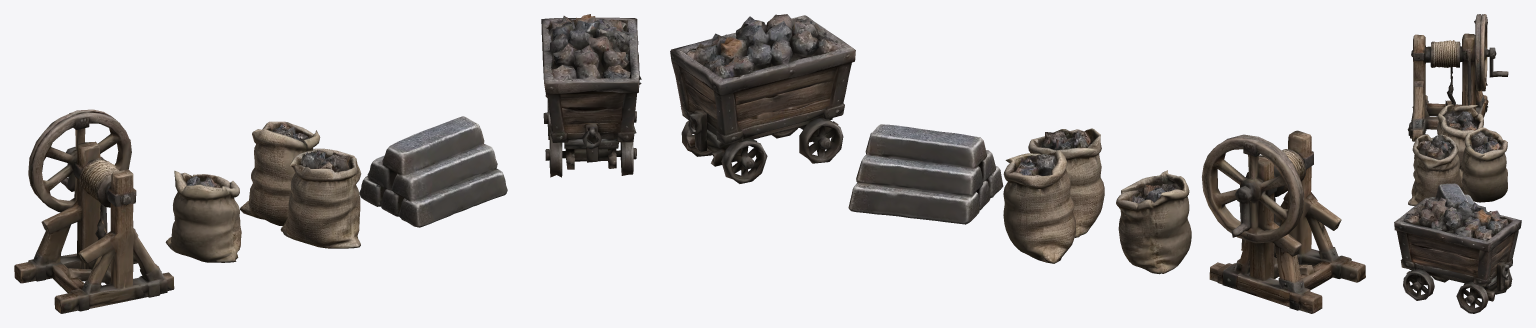
File: props_mining.glb
3 views of the same model, side by side, from view 1: azimuth 30°, elevation 25°; view 2: azimuth 150°, elevation 25°; view 3: azimuth 270°, elevation 25° (orthographic). The views are drawn at different scales.
Parts seen in each view (by area): view 1: winch, cart, sacks_pair, ingots, sack; view 2: cart, winch, ingots, sacks_pair, sack; view 3: cart, sacks_pair, winch, sack, ingots.
Part boxes in pixels (x1=…): winch: x1=14, y1=109, x2=174, y2=313; cart: x1=541, y1=14, x2=641, y2=177; sacks_pair: x1=240, y1=121, x2=361, y2=248; ingots: x1=359, y1=116, x2=507, y2=227; sack: x1=165, y1=170, x2=241, y2=262; cart: x1=670, y1=14, x2=855, y2=183; winch: x1=1202, y1=130, x2=1365, y2=313; ingots: x1=848, y1=124, x2=1003, y2=224; sacks_pair: x1=1003, y1=128, x2=1104, y2=263; sack: x1=1116, y1=170, x2=1191, y2=274; cart: x1=1394, y1=196, x2=1521, y2=313; sacks_pair: x1=1408, y1=127, x2=1507, y2=205; winch: x1=1407, y1=14, x2=1508, y2=141; sack: x1=1437, y1=104, x2=1483, y2=169; ingots: x1=1429, y1=183, x2=1474, y2=204.
Bounding box in the file's own units: 1.17 × 0.273 × 0.2916.
1 material, 1 textured.
